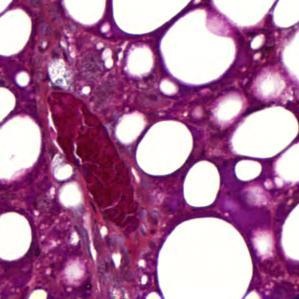steatosis: (133, 121, 197, 175)
